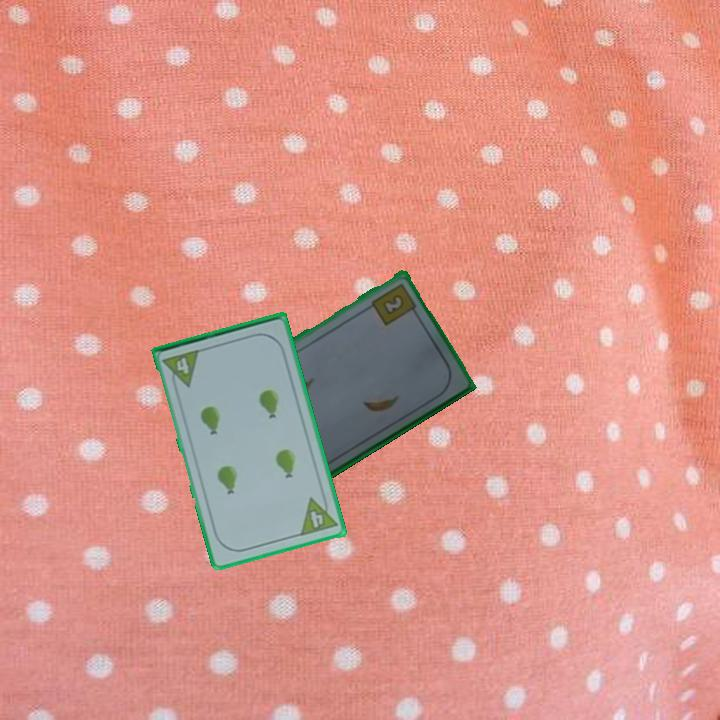2b: (368, 279, 420, 328)
4p: (297, 491, 340, 539), (159, 346, 203, 392)
